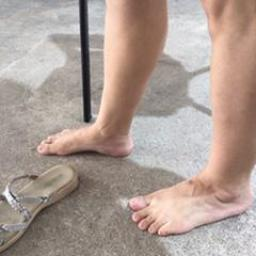Medial View -Right Foot-: (32, 100, 145, 162)
